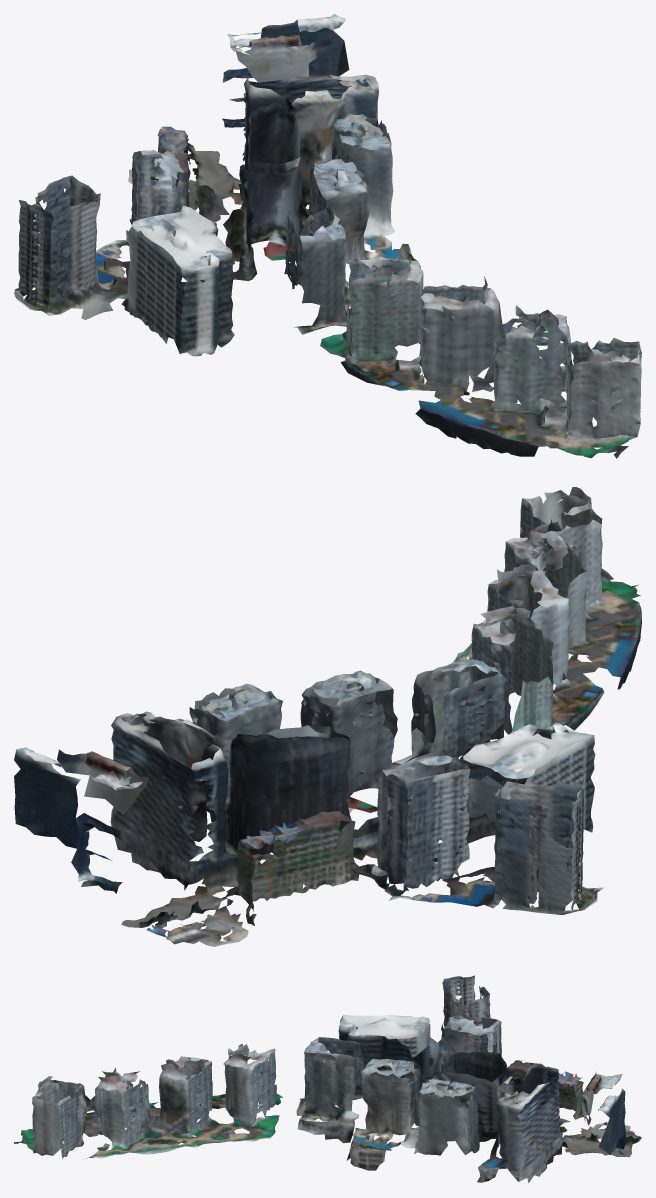
The model's file is philippines_skyscrapers.glb.
3 renders of one model, top to bottom at view 1: azimuth 30°, elevation 25°; view 2: azimuth 150°, elevation 25°; view 3: azimuth 270°, elevation 25°, orthographic. The views are drawn at different scales.
Visible parts, largest first — view 1: Philippines_Skyscrapers; view 2: Philippines_Skyscrapers; view 3: Philippines_Skyscrapers.
Boxes of the visible parts, x1,y1,x2,y2 form: Philippines_Skyscrapers: (14,14,641,458); Philippines_Skyscrapers: (14,487,641,946); Philippines_Skyscrapers: (14,975,641,1182).
Size of the model in its own units: 85.72 by 25.72 by 152.
Materials: 1 (1 with a texture image).
